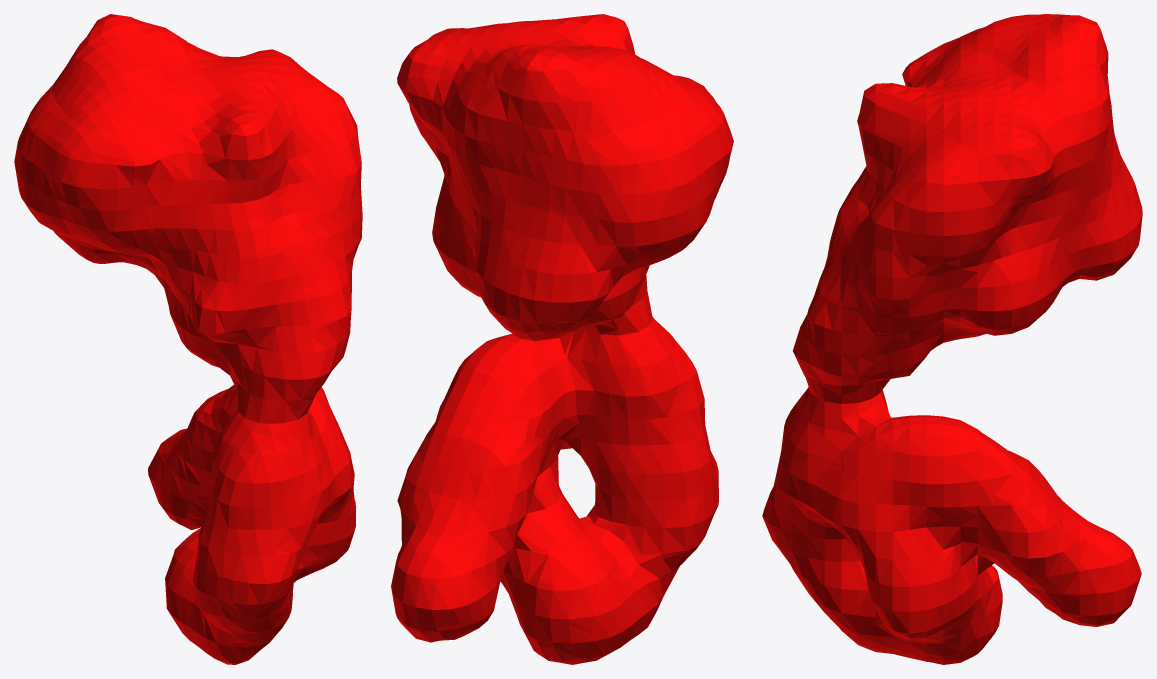
File: fklB_coarse.dae
3 views of the same model, side by side, from view 1: azimuth 30°, elevation 25°; view 2: azimuth 150°, elevation 25°; view 3: azimuth 270°, elevation 25° (orthographic). The views are drawn at different scales.
Visible parts, largest first — view 1: fklB; view 2: fklB; view 3: fklB.
Boxes of the visible parts, <box> form: fklB: <box>14,14,362,664</box>; fklB: <box>391,14,733,664</box>; fklB: <box>762,14,1142,664</box>.
Bounding box in the file's own units: 41.91 × 82.43 × 45.69.
